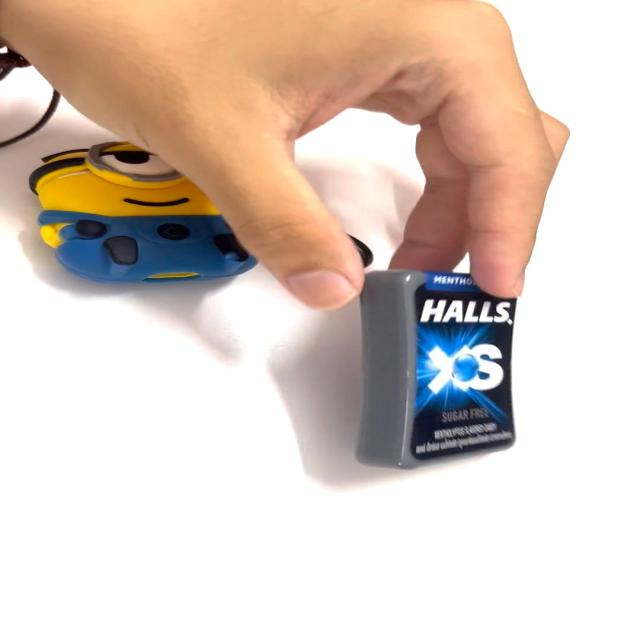airpod minion: (15, 136, 377, 292)
mint hall: (343, 263, 532, 478)
